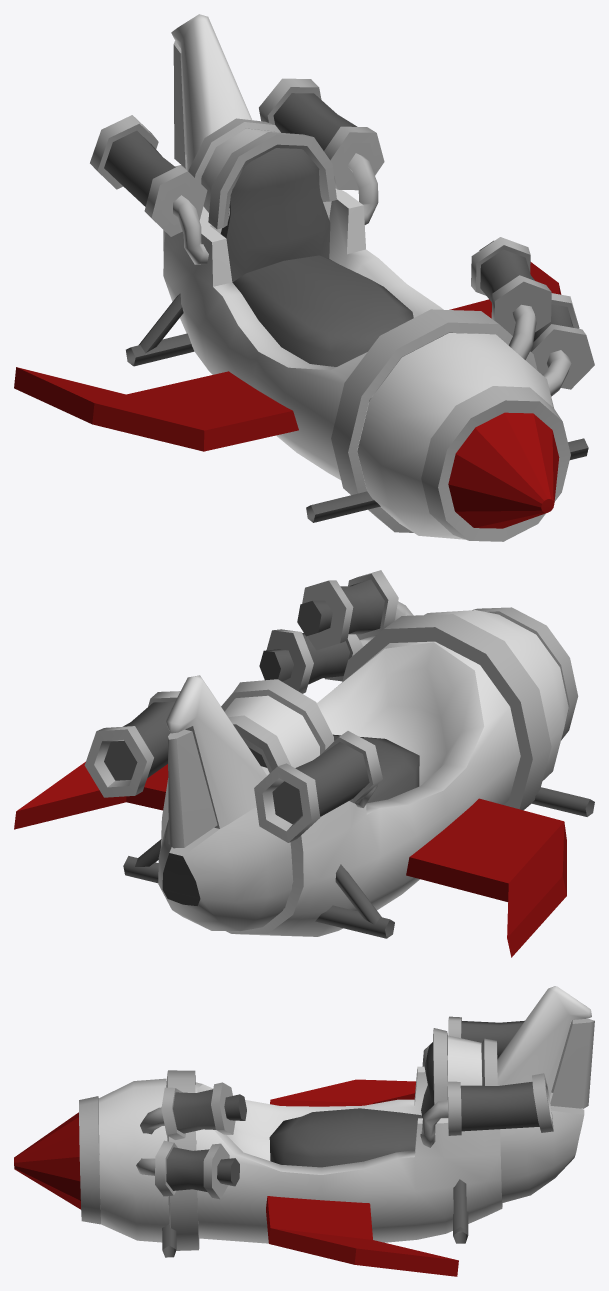
Rendered from Rocket_Ship.fbx.
3 views of the same model, one above another, from view 1: azimuth 30°, elevation 25°; view 2: azimuth 150°, elevation 25°; view 3: azimuth 270°, elevation 25° (orthographic). The views are drawn at different scales.
Parts seen in each view (by area): view 1: Rocket_Ship_Body; view 2: Rocket_Ship_Body; view 3: Rocket_Ship_Body.
Boxes of the visible parts, left/top/right/bottom form: Rocket_Ship_Body: left=14, top=14, right=594, bottom=541; Rocket_Ship_Body: left=14, top=570, right=594, bottom=957; Rocket_Ship_Body: left=14, top=986, right=594, bottom=1276.
Size of the model in its own units: 136 by 88.11 by 180.
